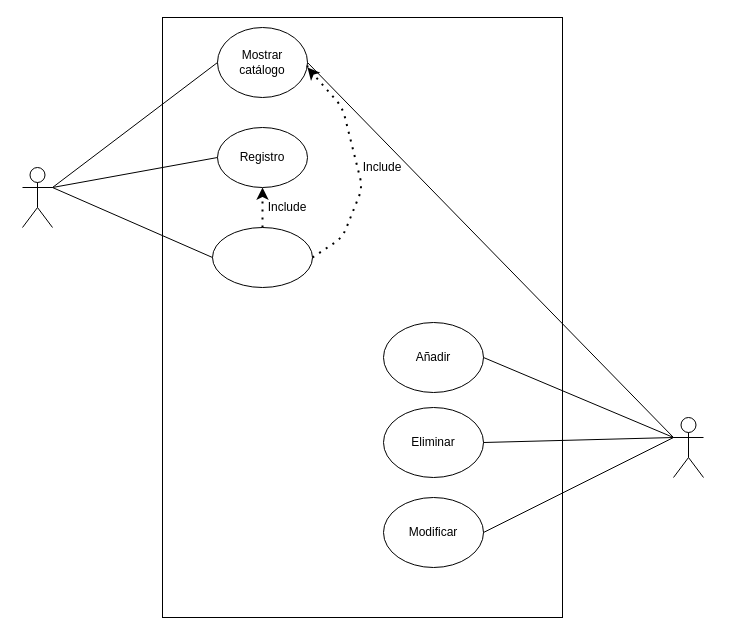
Some shapes in this 743 by 643 pixel diagram are drawn without their labels. Each missing label, with the box of its shape:
Administrador: (672, 416, 704, 478)
Compra: (212, 226, 312, 288)
Usuario: (22, 166, 52, 228)
